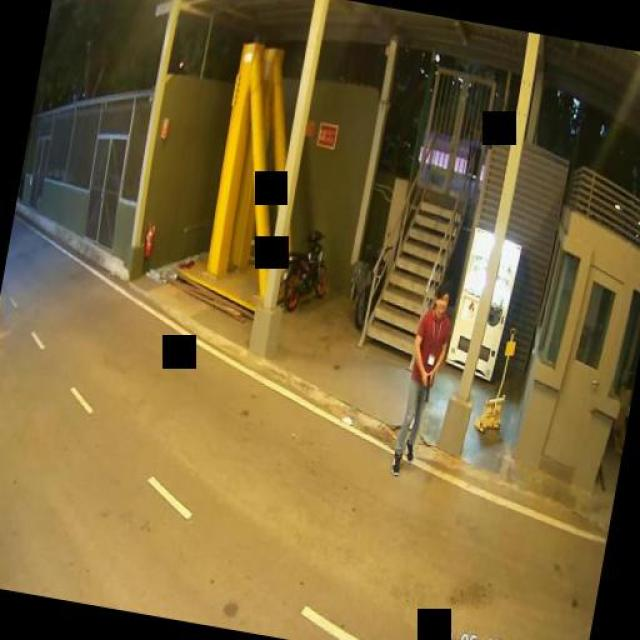gun: (415, 371, 431, 401)
